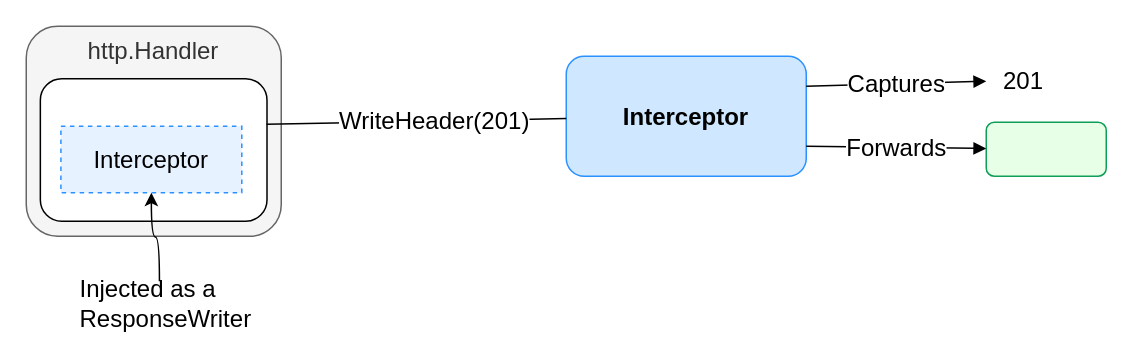
The diagram is 1133 pixels wide and 359 high, and some of its shapes have lost their labels. The shapes that lost their labels are listed below. From the top down, each one's box as (x1, y1, x2, y2) in pixels, then its label:
(39, 77, 267, 221): ResponseWriter
(985, 121, 1106, 176): Clients
